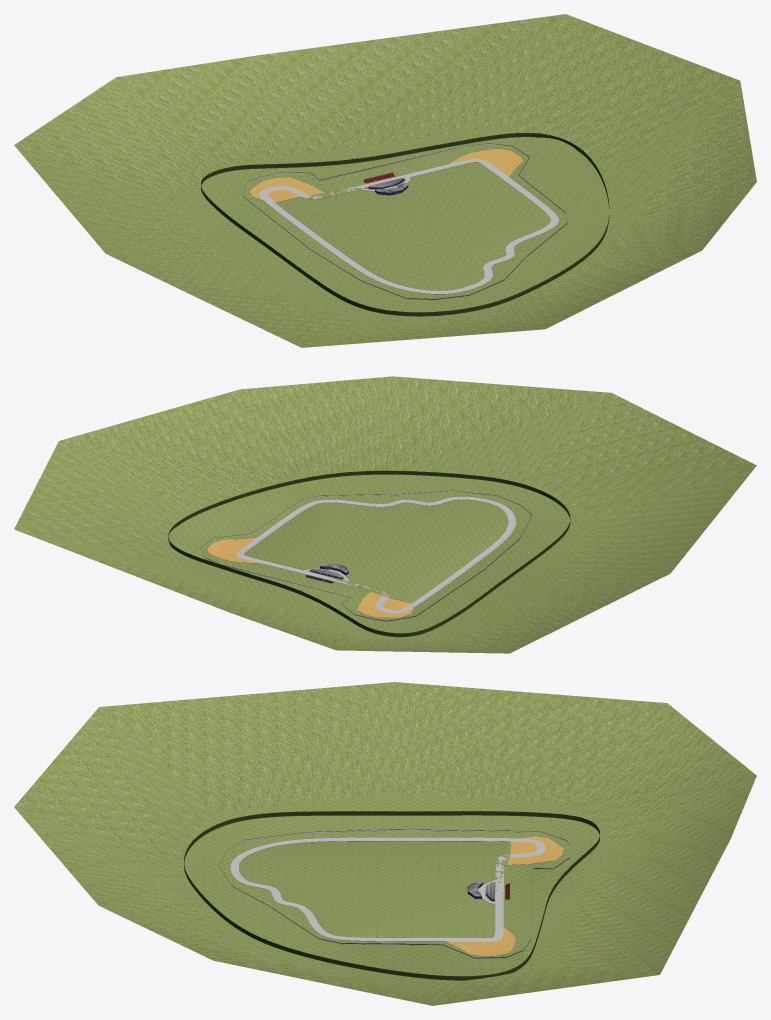
The model's file is F1_RaceTrack.fbx.
3 renders of one model, top to bottom at view 1: azimuth 30°, elevation 25°; view 2: azimuth 150°, elevation 25°; view 3: azimuth 270°, elevation 25°, orthographic. The views are drawn at different scales.
Visible parts, largest first — view 1: MainTrack_Object, TreeLine; view 2: MainTrack_Object, TreeLine; view 3: MainTrack_Object, TreeLine.
Part boxes in pixels (<box>): MainTrack_Object: <box>14,14,756,347</box>; TreeLine: <box>201,132,609,316</box>; MainTrack_Object: <box>14,376,756,653</box>; TreeLine: <box>168,470,570,637</box>; MainTrack_Object: <box>14,682,756,1005</box>; TreeLine: <box>184,811,599,980</box>.
Size of the model in its own units: 271772 by 18665 by 263414.
